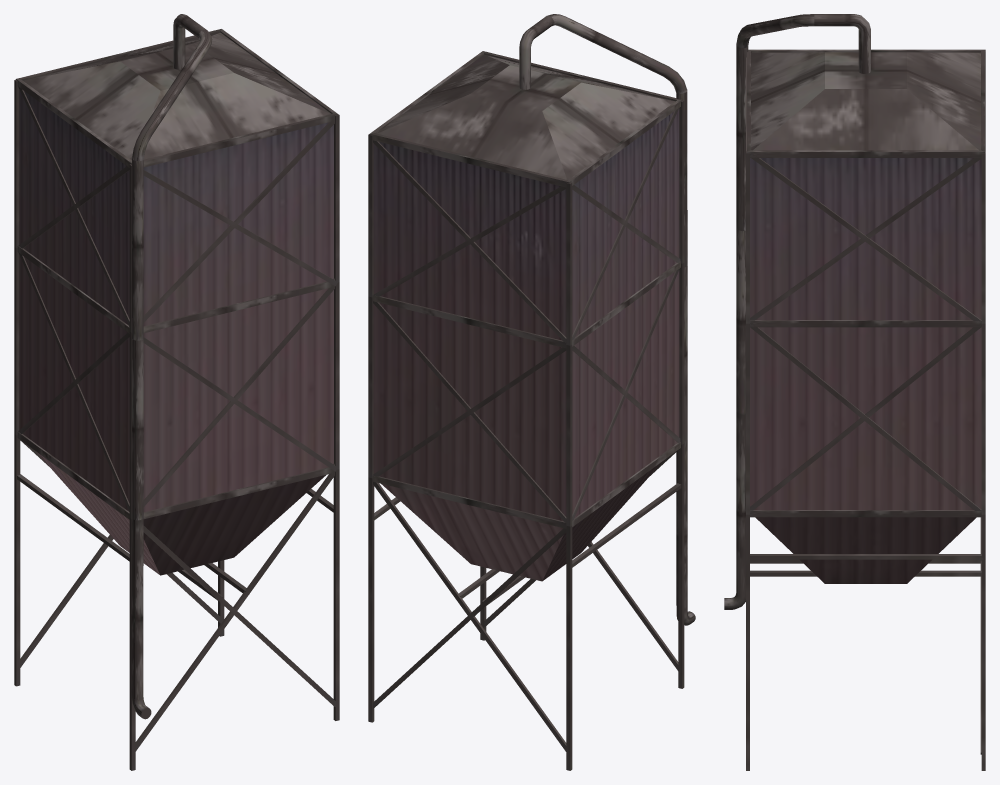
The model's file is Tank_1.glb.
3 views of the same model, side by side, from view 1: azimuth 30°, elevation 25°; view 2: azimuth 150°, elevation 25°; view 3: azimuth 270°, elevation 25° (orthographic). The views are drawn at different scales.
Visible parts, largest first — view 1: Tank_1; view 2: Tank_1; view 3: Tank_1.
Part boxes in pixels (<box>): Tank_1: <box>14,14,339,770</box>; Tank_1: <box>368,14,695,770</box>; Tank_1: <box>724,14,985,770</box>.
Size of the model in its own units: 4.65 by 14.69 by 4.94.
Materials: 1 (1 with a texture image).
